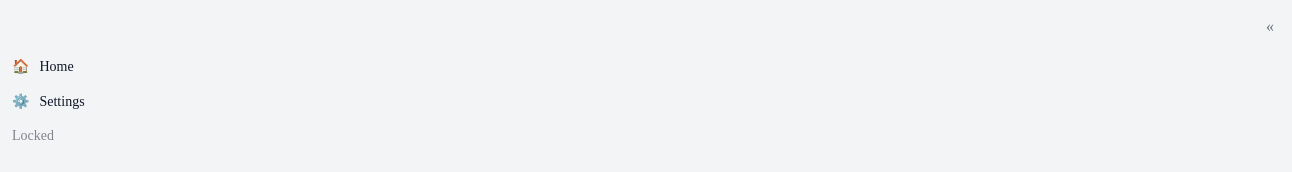
Test: Sidebar › manages its own collapsed state internally by default, toggled via its own button
Expected: the text "Home" is shown, [40,58,74,74]
What coordinates should you click on to do the following:
click the button named "Collapse sidebar"
I would click on:
 (1270, 27)
Its box is [1260,12,1280,42].
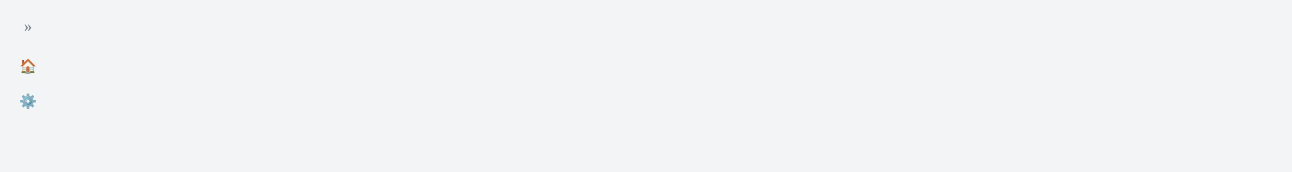
Expected: the text "🏠" is shown, [19,58,37,75]
Expected: the text "Home" is gone
What coordinates should you click on to do the following:
click the button named "Expand sidebar"
I would click on:
 (28, 27)
Its box is [18,12,38,42].
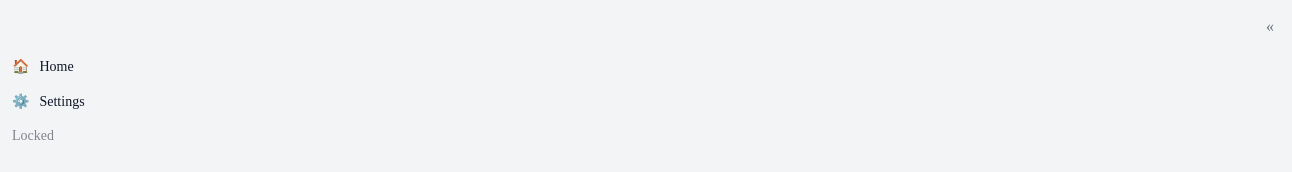
Expected: the text "Home" is shown, [40,58,74,74]
